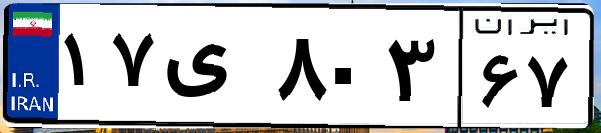0: (330, 28, 385, 110)
1: (57, 26, 110, 100)
3: (385, 28, 445, 110)
6: (475, 38, 525, 113)
7: (525, 38, 570, 115), (110, 28, 158, 98)
8: (270, 28, 330, 110)
ی: (158, 20, 270, 120)
